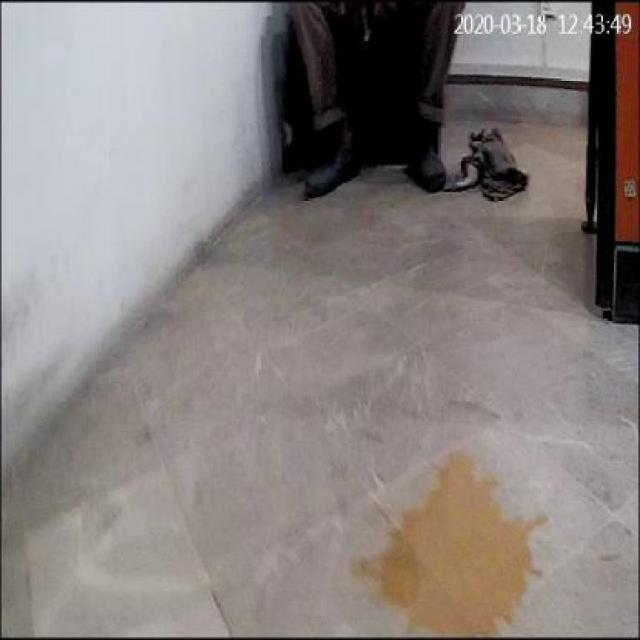spill: (372, 442, 554, 630)
